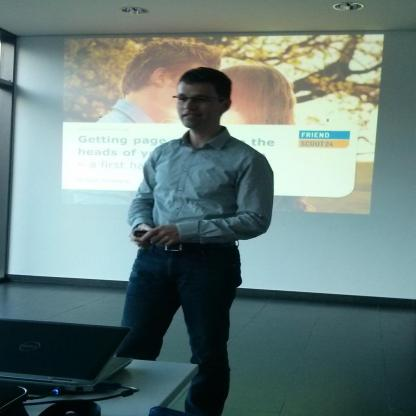board: (6, 314, 136, 408)
